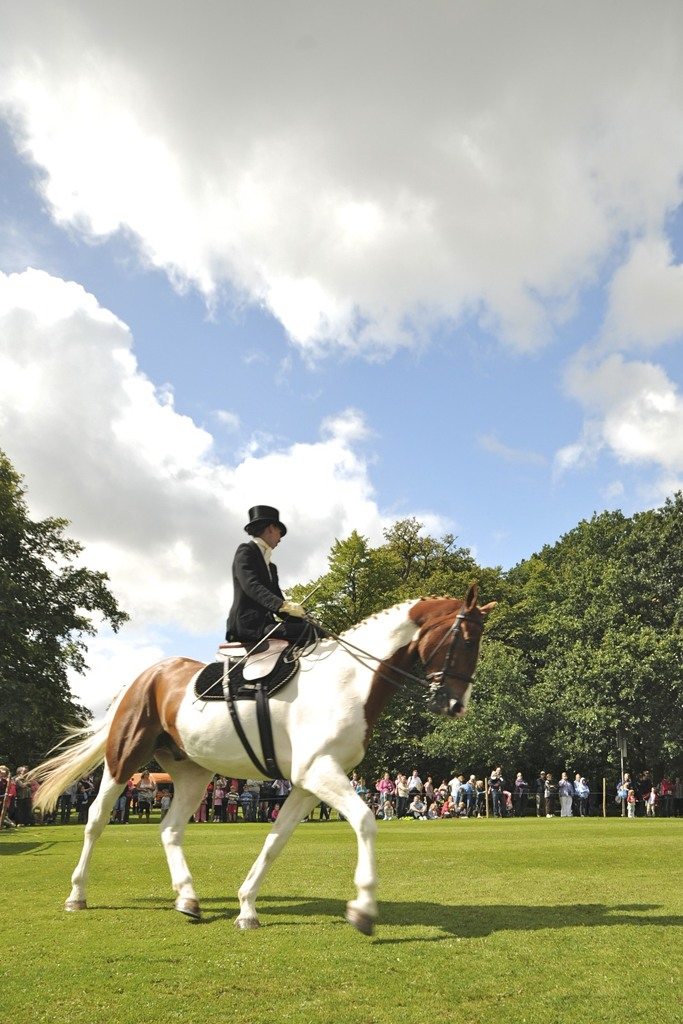horse: (21, 582, 497, 936)
